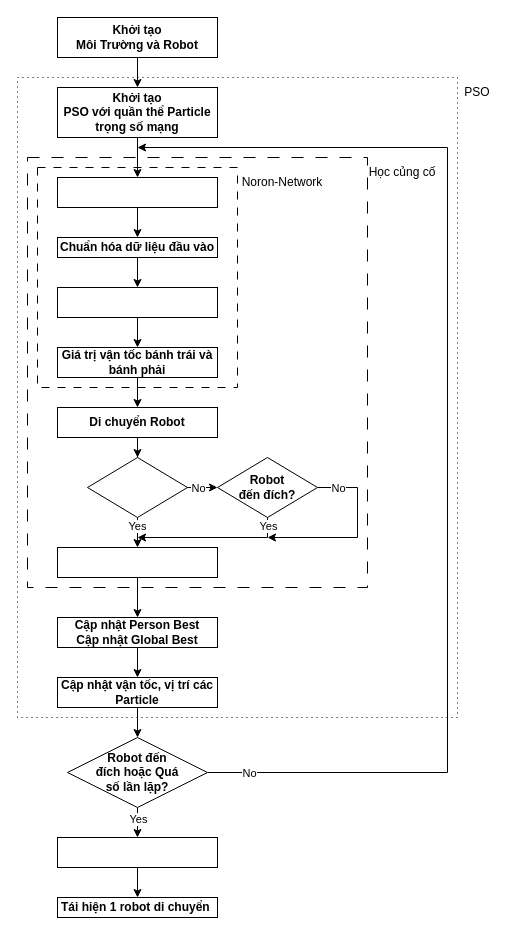
Some shapes in this 515 by 935 pixel diagram are drawn without their labels. The box of each missing label's shape, as (x1, y1, x2, y2) in pixels:
Lưu giá trị Person Best Lưu giá trị Global Best: (56, 836, 218, 868)
Robot va chạm?: (86, 456, 188, 518)
Tính giá trị Fitness kết hợp phần thưởng học củng cố: (56, 546, 218, 578)
Xử lý dữ liệu đầu vào thành hành vi điều khiển: (56, 286, 218, 318)
Đọc giá trị cảm biến và góc quay theta: (56, 176, 218, 208)
